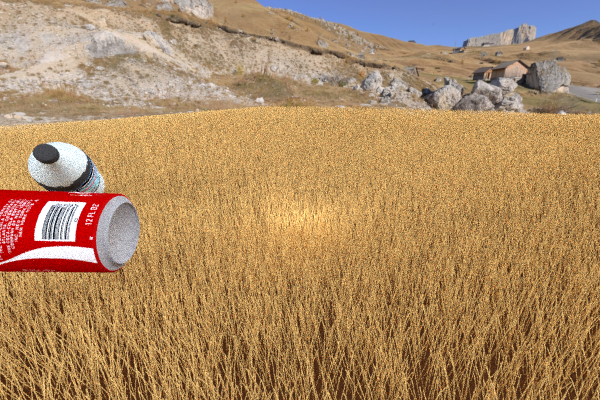bottle: (27, 142, 104, 203)
can: (0, 188, 139, 272)
